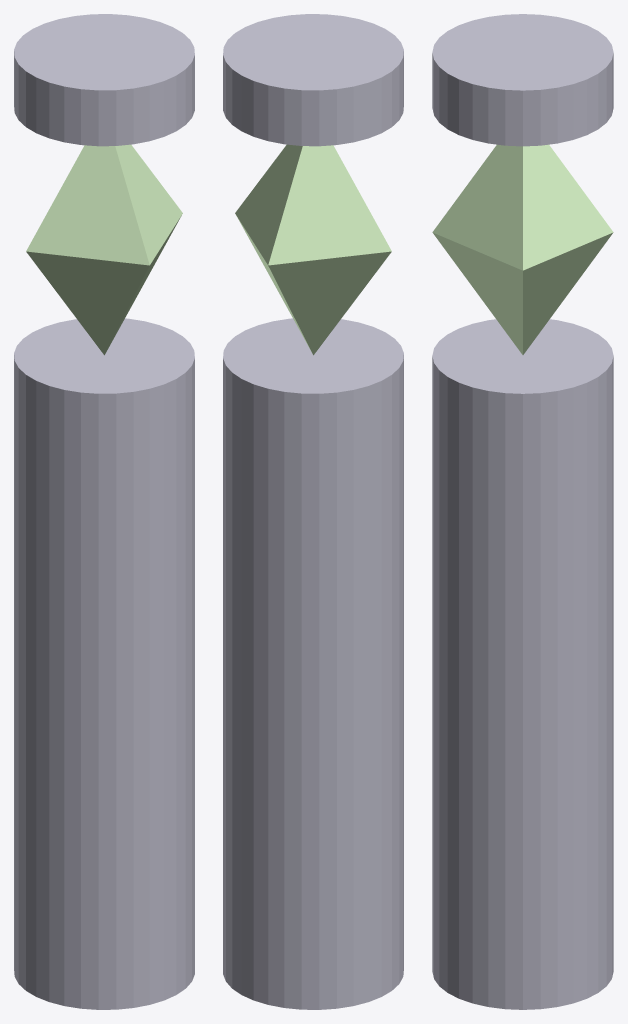
File: checkpoint.glb
3 views of the same model, side by side, from view 1: azimuth 30°, elevation 25°; view 2: azimuth 150°, elevation 25°; view 3: azimuth 270°, elevation 25° (orthographic).
Visible parts, largest first — view 1: bottom, top, crystal; view 2: bottom, top, crystal; view 3: bottom, crystal, top.
Boxes of the visible parts, bbox=[...] form: bottom: bbox=[14, 318, 194, 1009]; top: bbox=[14, 14, 194, 146]; crystal: bbox=[26, 144, 182, 355]; bottom: bbox=[223, 318, 403, 1009]; top: bbox=[223, 14, 403, 146]; crystal: bbox=[235, 144, 391, 355]; bottom: bbox=[432, 319, 613, 1009]; crystal: bbox=[432, 144, 613, 354]; top: bbox=[432, 14, 613, 146].
Size of the model in its own units: 0.4 by 2.24 by 0.4.
